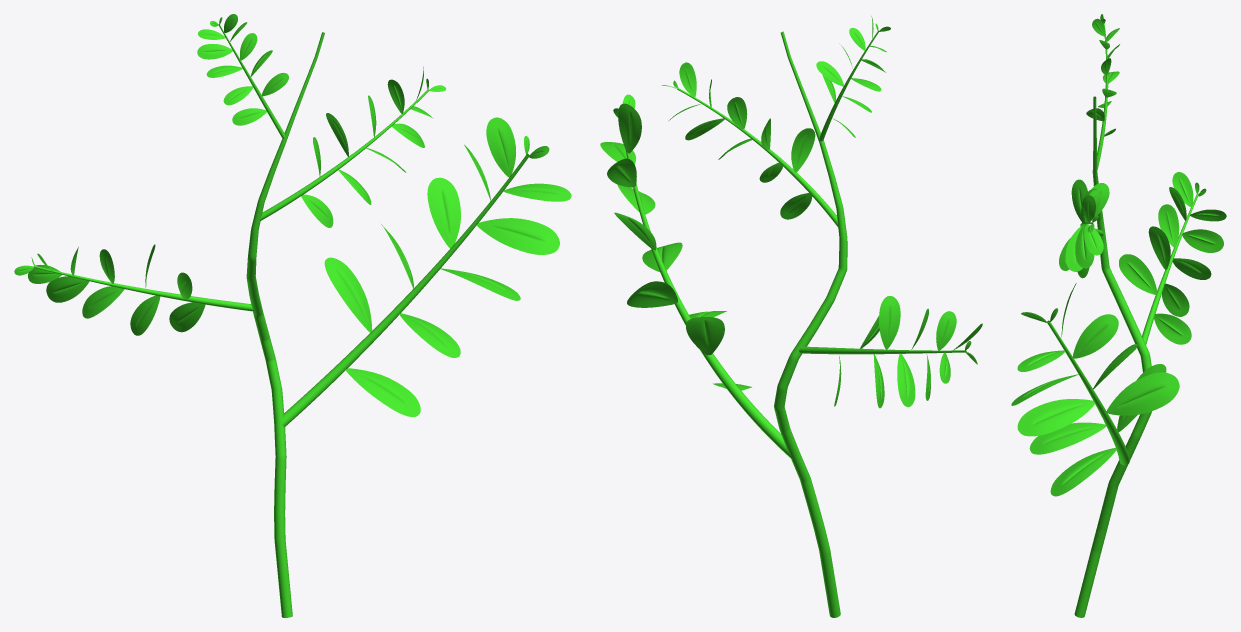
Rendered from mata_test_02.glb.
3 renders of one model, left to right at view 1: azimuth 30°, elevation 25°; view 2: azimuth 150°, elevation 25°; view 3: azimuth 270°, elevation 25°, orthographic. The views are drawn at different scales.
Visible parts, largest first — view 1: Tallo ce ntral.001; view 2: Tallo ce ntral.001; view 3: Tallo ce ntral.001.
Part boxes in pixels (box(x1,y1,x2,y2)): Tallo ce ntral.001: box(14, 14, 571, 617); Tallo ce ntral.001: box(600, 16, 982, 617); Tallo ce ntral.001: box(1011, 14, 1226, 617).
Size of the model in its own units: 3.82 by 4.81 by 1.63.
